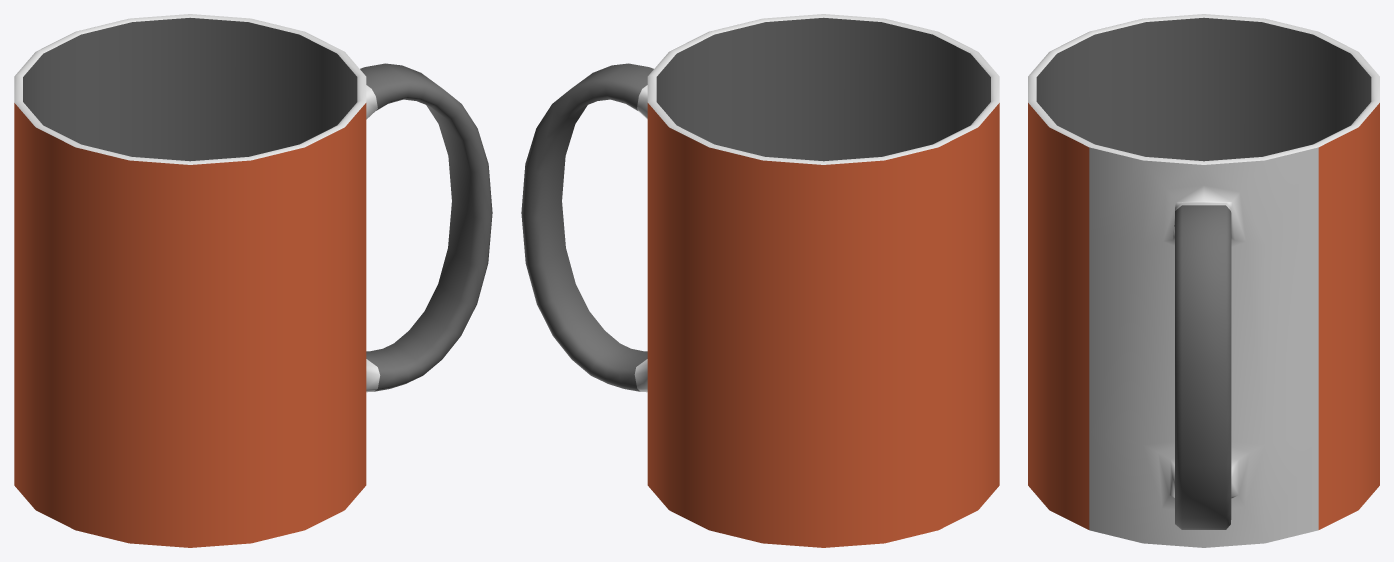
File: taza.glb
The picture shows the model from 3 angles, left to right: view 1: azimuth 30°, elevation 25°; view 2: azimuth 150°, elevation 25°; view 3: azimuth 270°, elevation 25°; orthographic projection.
Visible parts, largest first — view 1: mug_low; view 2: mug_low; view 3: mug_low.
Boxes of the visible parts, bbox=[...] form: mug_low: bbox=[14, 14, 492, 547]; mug_low: bbox=[521, 14, 999, 547]; mug_low: bbox=[1028, 14, 1379, 547].
Size of the model in its own units: 2 by 1.65 by 1.37.
